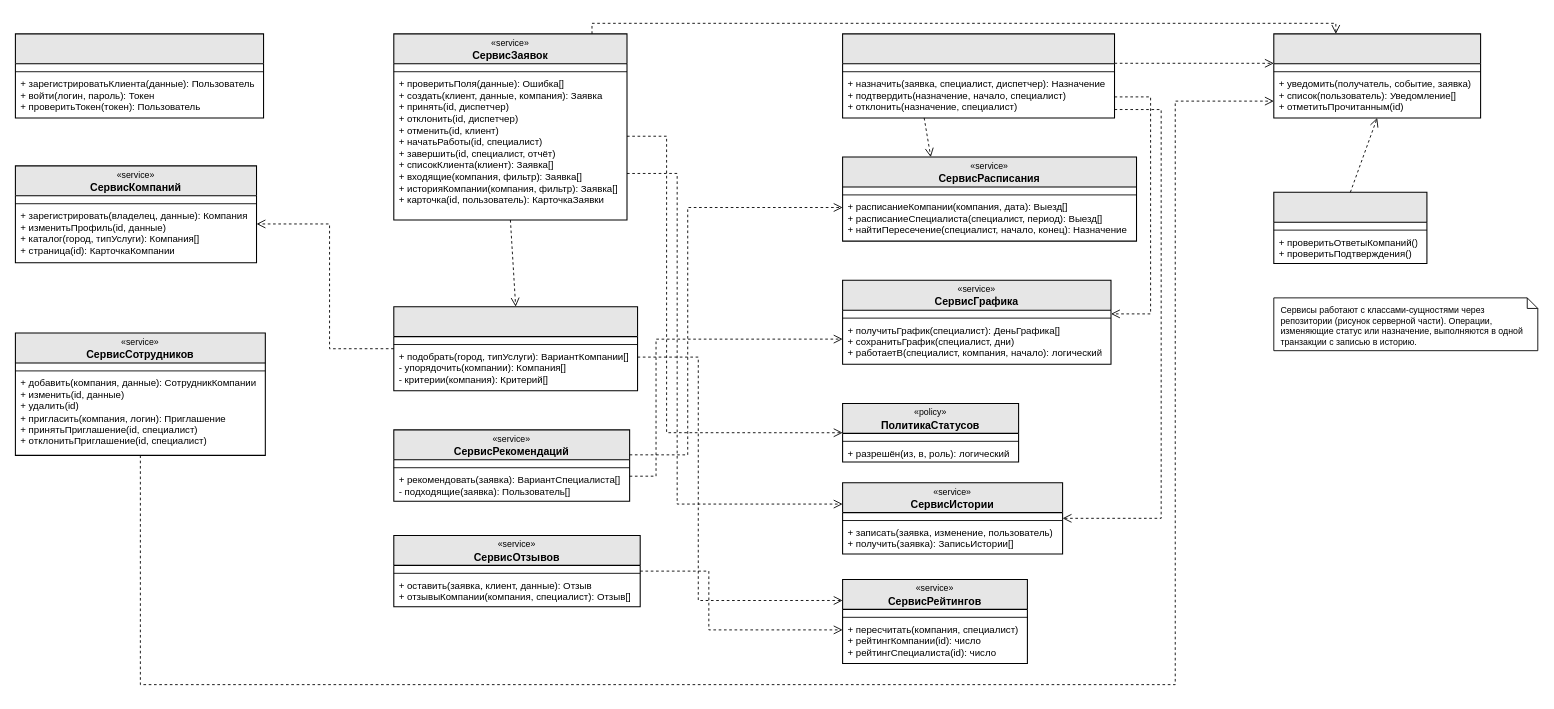
Image size: 1554x709. Some labels were removed from this diagram. The box of each missing label's shape, as (x1, y1, x2, y2) in pixels:
«scheduler» ПланировщикСроков: (1273, 191, 1427, 264)
«service» СервисАутентификации: (14, 33, 264, 118)
«service» СервисНазначений: (842, 33, 1115, 118)
«service» СервисПодбораКомпаний: (393, 306, 638, 391)
«service» СервисУведомлений: (1273, 33, 1481, 118)
